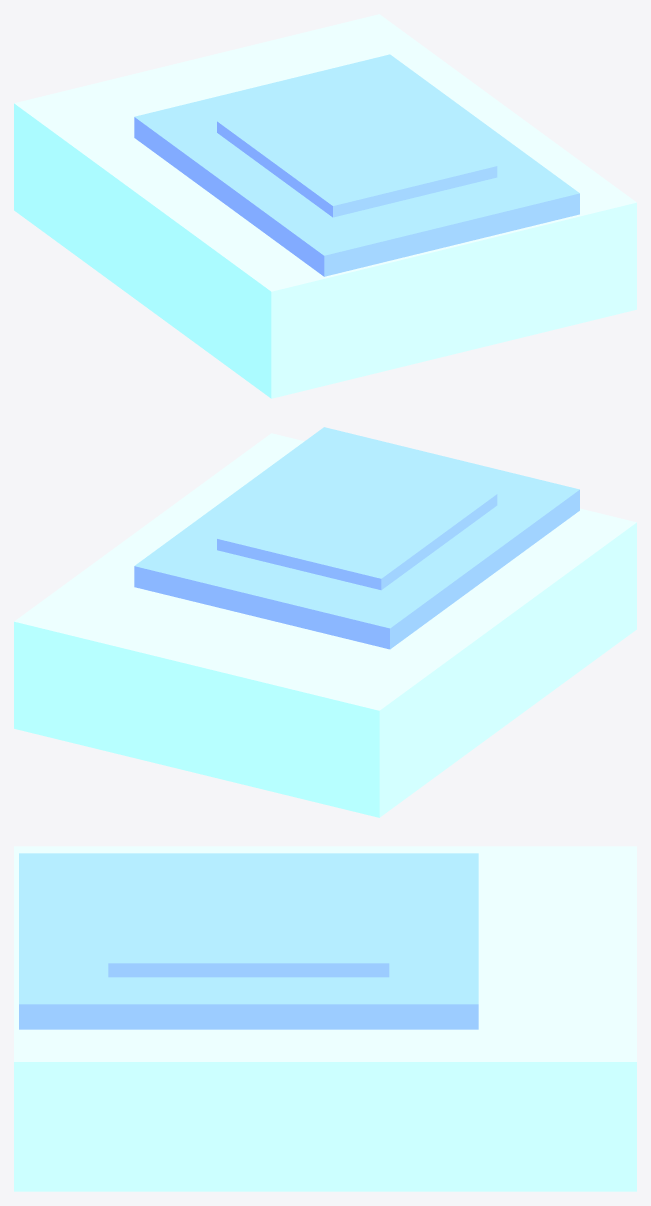
3 renders of one model, top to bottom at view 1: azimuth 30°, elevation 25°; view 2: azimuth 150°, elevation 25°; view 3: azimuth 270°, elevation 25°, orthographic. The views are drawn at different scales.
Parts seen in each view (by area): view 1: 北区体育馆 路 North 3 panel, 北区体育馆 路 North 3 roof; view 2: 北区体育馆 路 North 3 panel, 北区体育馆 路 North 3 roof; view 3: 北区体育馆 路 North 3 panel, 北区体育馆 路 North 3 roof.
Part boxes in pixels (bbox=[...]): 北区体育馆 路 North 3 panel: bbox=[14, 14, 636, 398]; 北区体育馆 路 North 3 roof: bbox=[134, 54, 579, 276]; 北区体育馆 路 North 3 panel: bbox=[14, 433, 636, 817]; 北区体育馆 路 North 3 roof: bbox=[134, 427, 579, 649]; 北区体育馆 路 North 3 panel: bbox=[14, 846, 636, 1191]; 北区体育馆 路 North 3 roof: bbox=[19, 853, 478, 1029].
Bounding box in the file's own units: 40 × 14.6 × 48.8.
